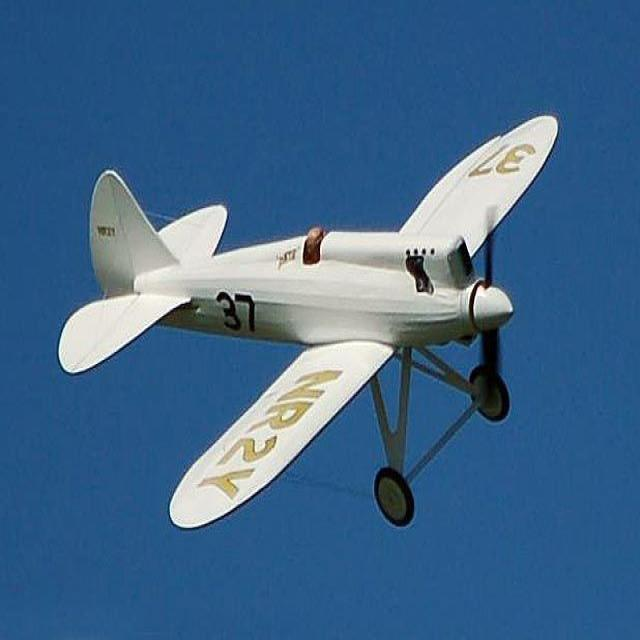iha: (55, 110, 562, 530)
